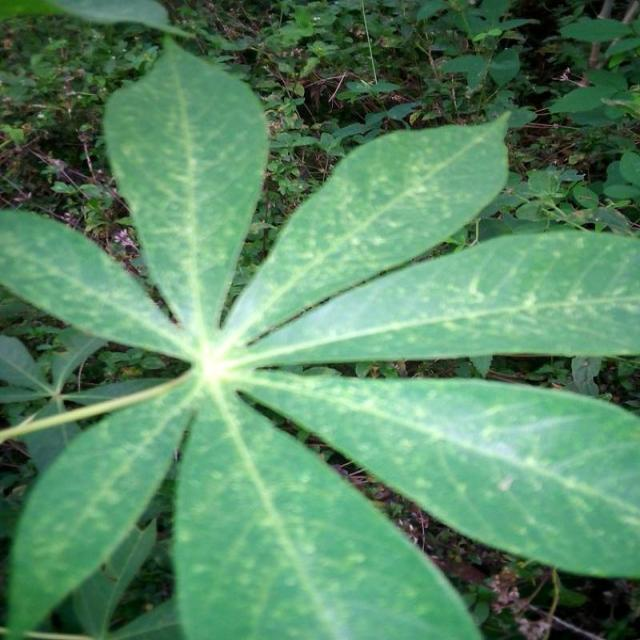cassava leaf: (2, 35, 639, 638), (237, 368, 640, 579), (172, 384, 486, 638), (102, 35, 272, 334)
